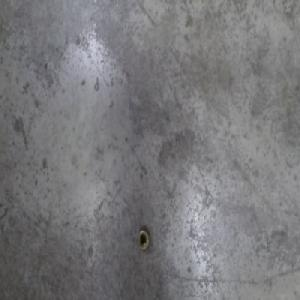Nut: (136, 225, 150, 252)
